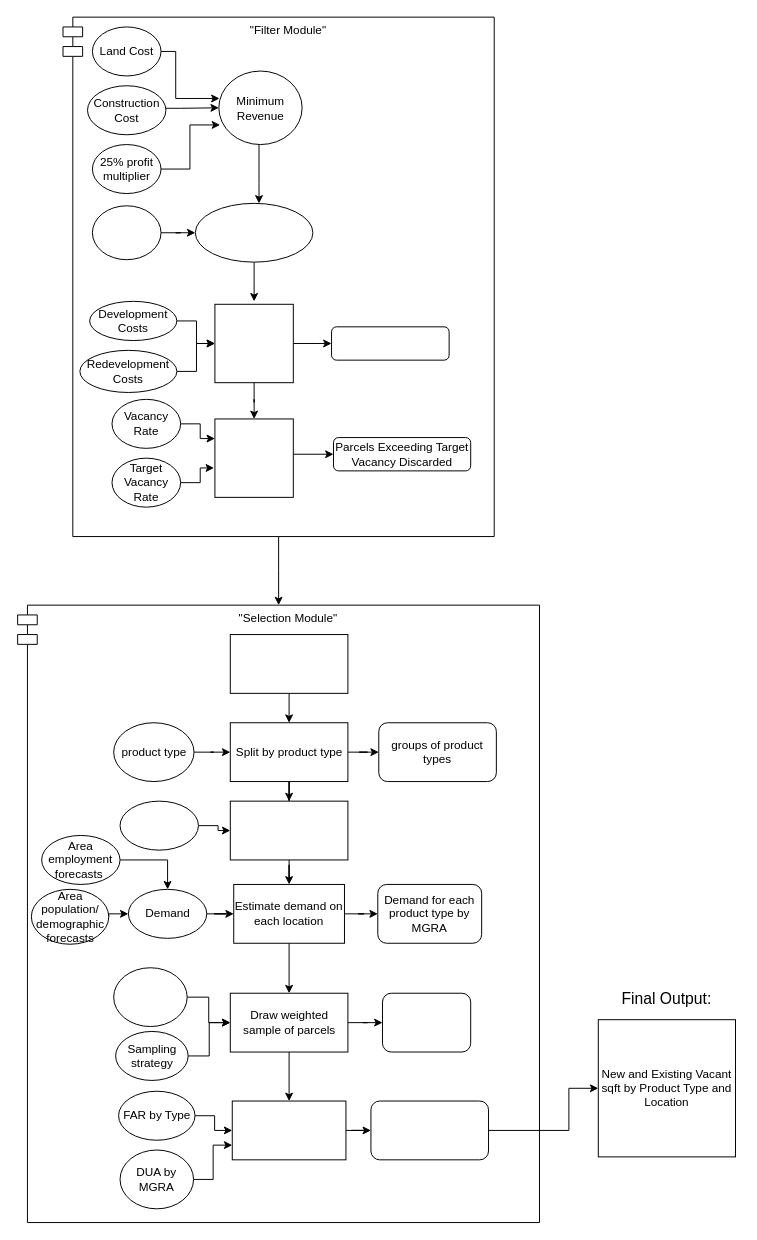
Image size: 757x1240. Some labels were removed from this diagram. Each missing label, with the centre of its shape:
"Apply Geographic Weighting" goes at [288,830].
"Expected Revenue" goes at [126,232].
"Filter by Profitability" goes at [253,343].
"Filter by Vacancy" goes at [253,457].
"Final sqft available by product type" goes at [429,1130].
"Geographic weights" goes at [158,825].
"Number of available developers" goes at [150,997].
"Parcels that will be developed" goes at [426,1022].
"Profit Margin" goes at [253,232].
"Total Square Footage by Product Type" goes at [288,1130].
"Unprofitable Parcels Discarded" goes at [390,343].
"Weight by profitability" goes at [288,663].
